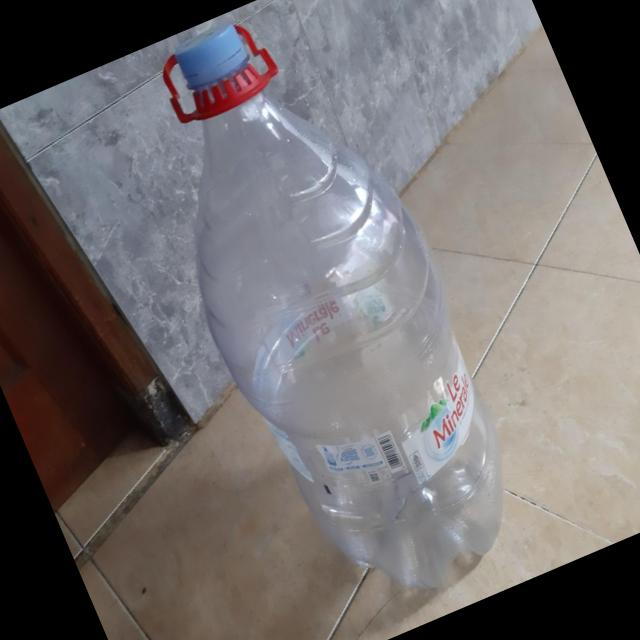Galon: (99, 0, 554, 633)
